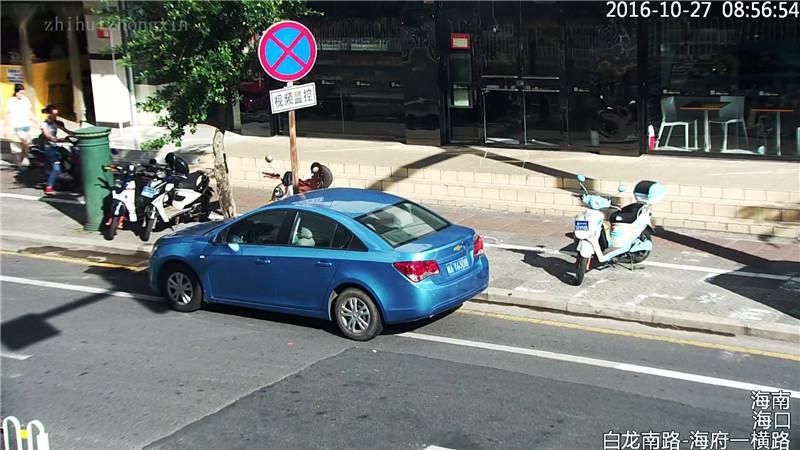car: (139, 183, 486, 343)
motorbike: (568, 189, 668, 284), (132, 171, 223, 230), (23, 133, 90, 180), (259, 158, 334, 199), (105, 162, 145, 227)
person: (8, 84, 40, 168)
